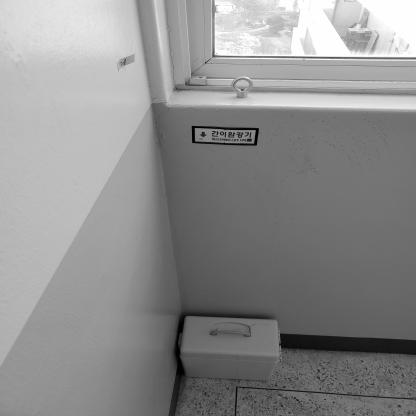DDL: (178, 315, 283, 382)
